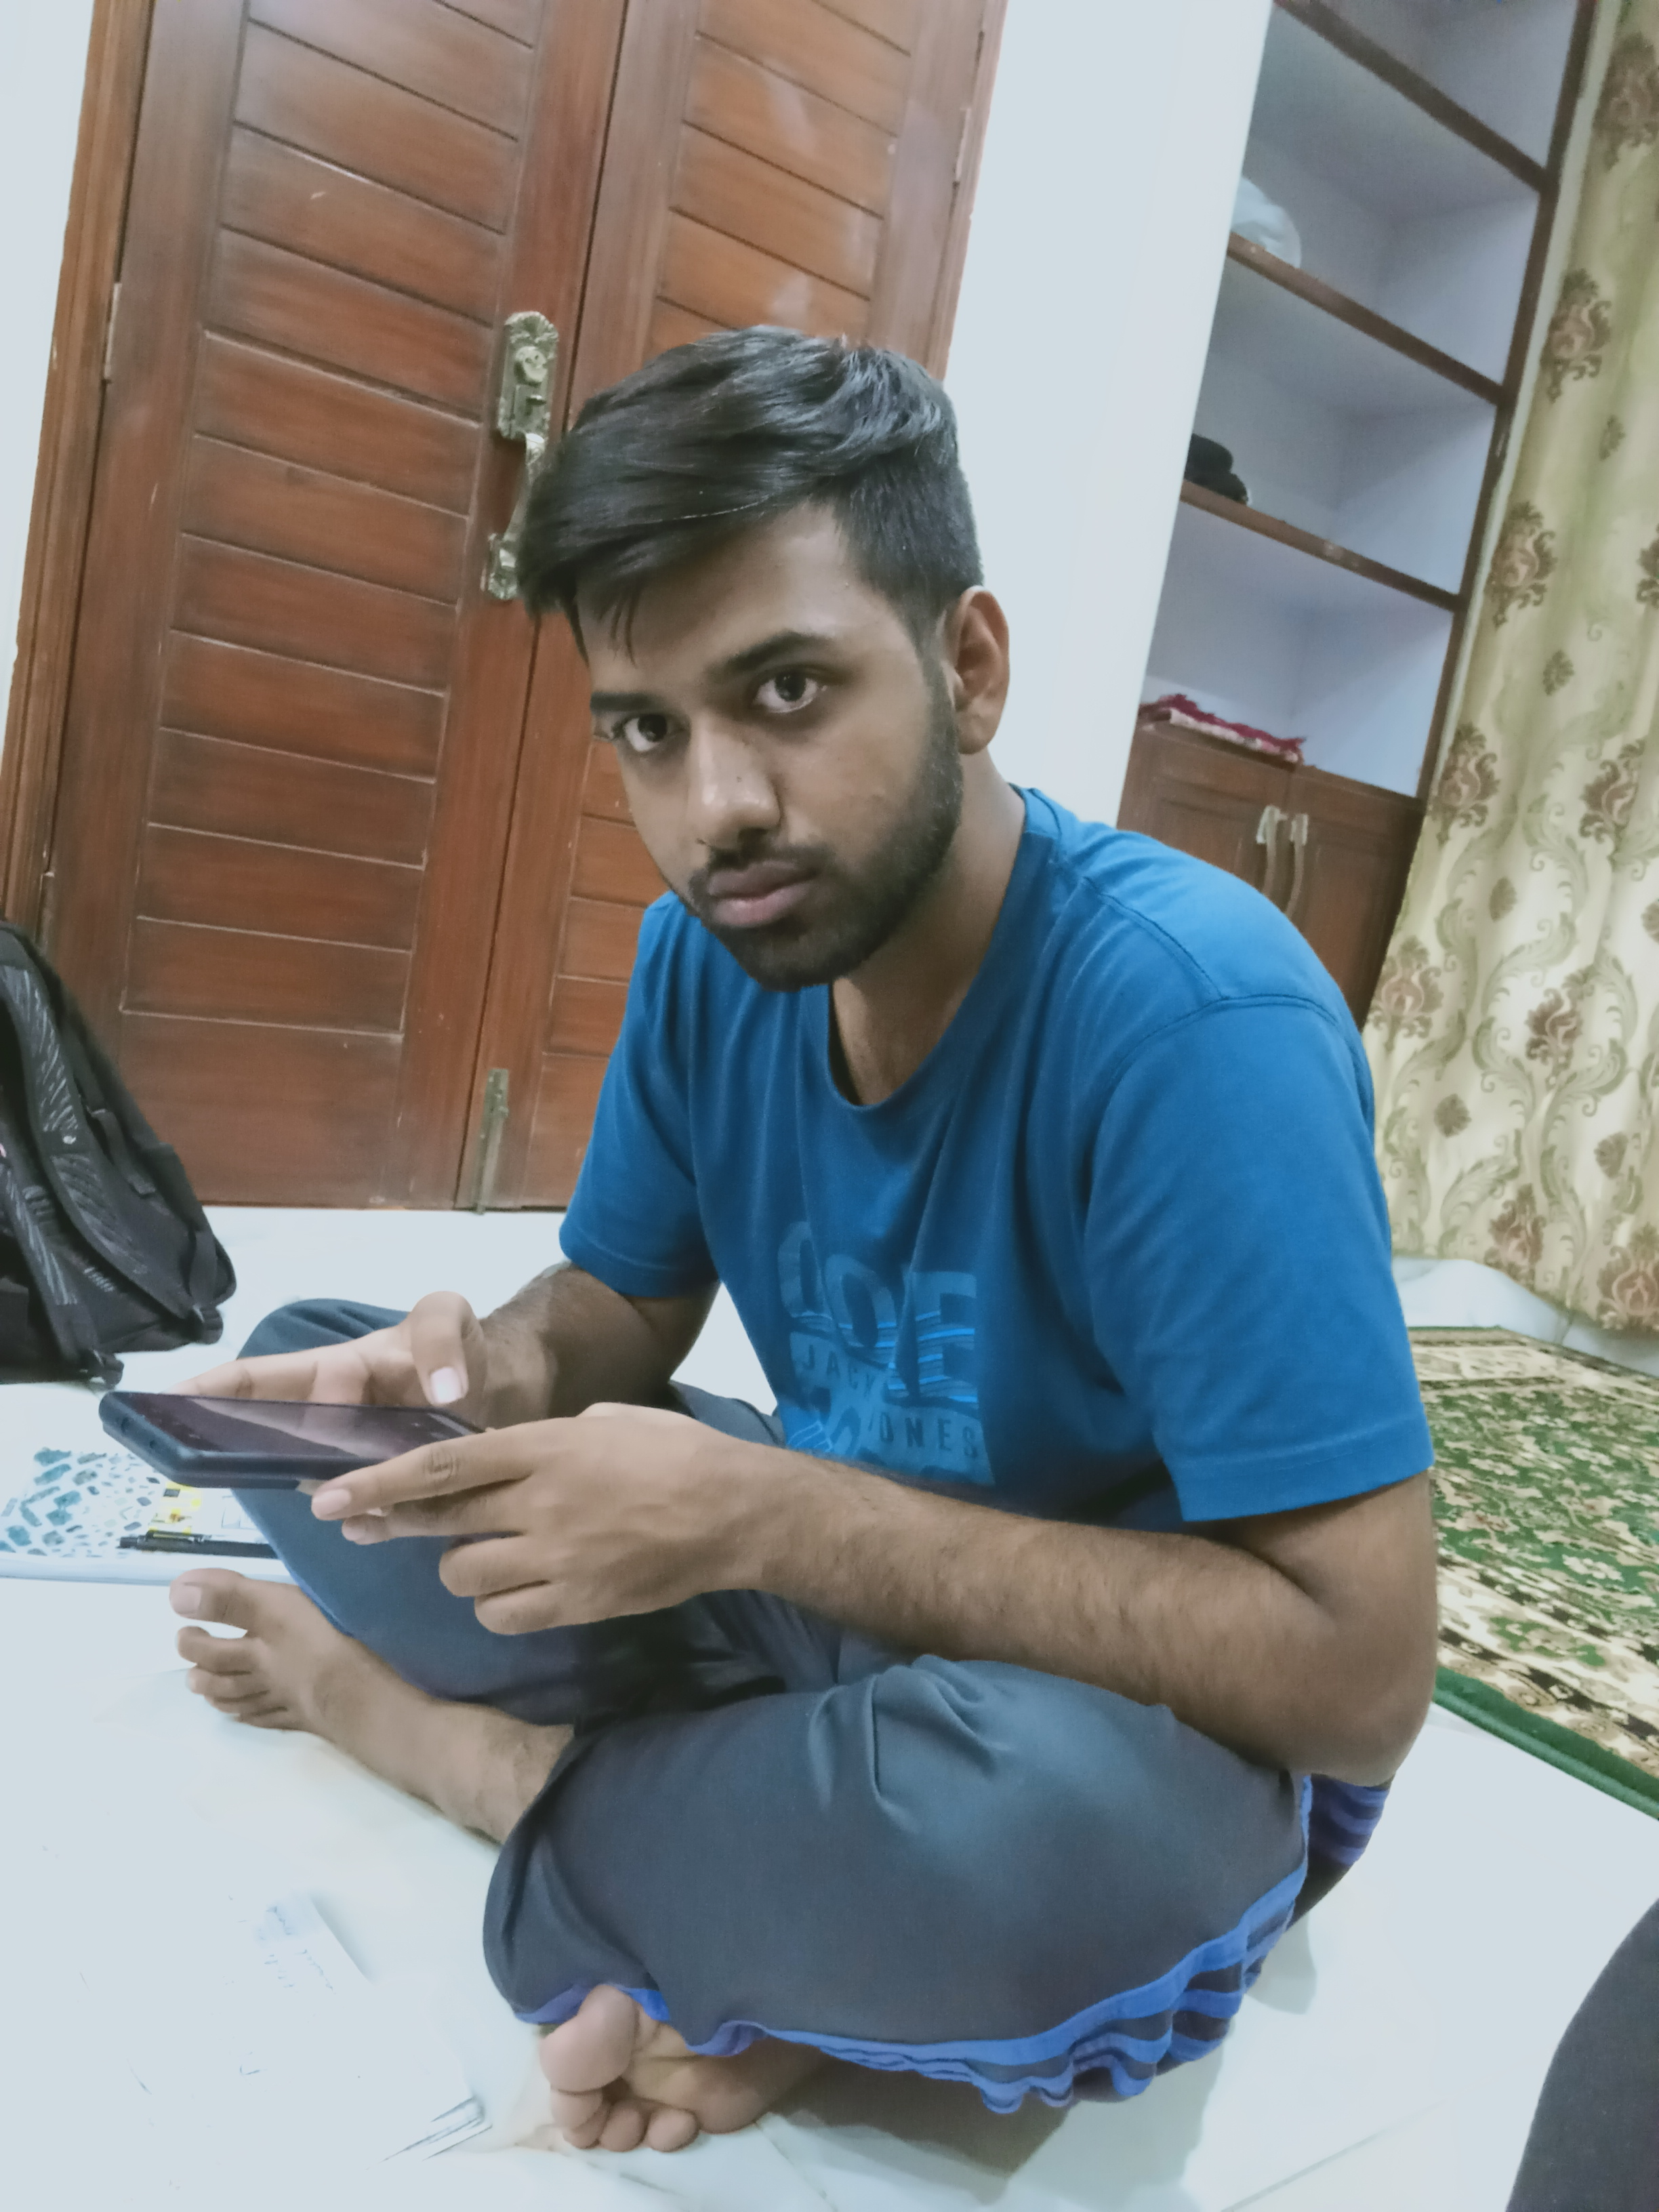NoMask: (592, 601, 938, 970)
